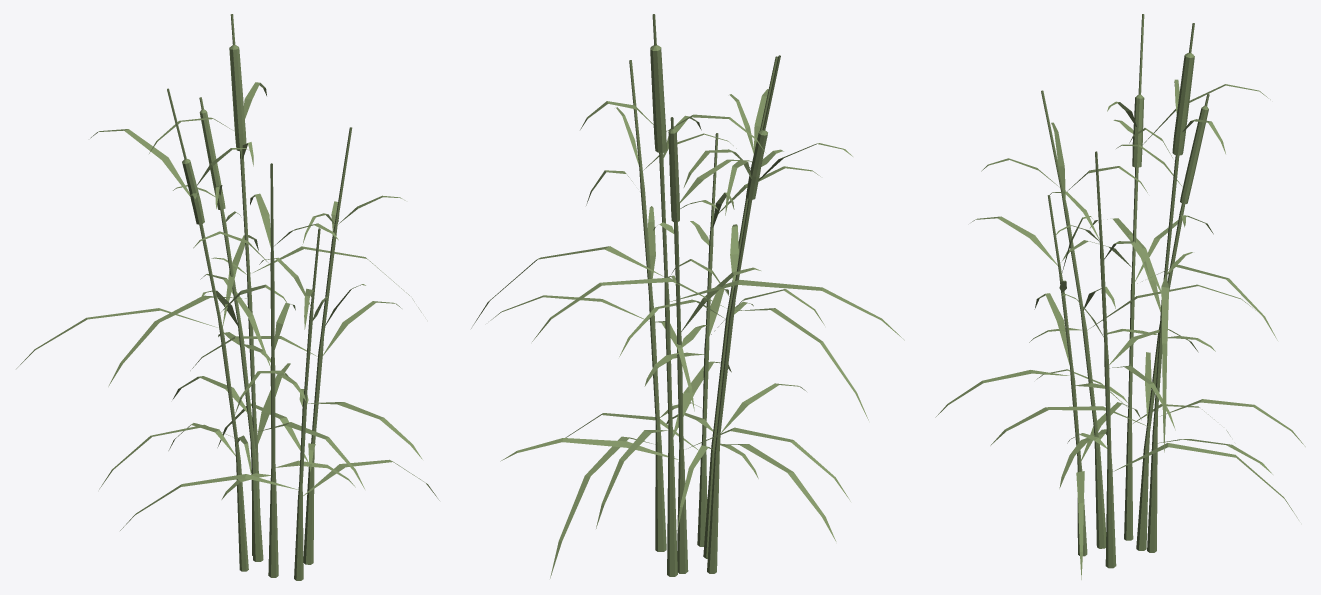
Rendered from schilf_neu.fbx.
3 views of the same model, side by side, from view 1: azimuth 30°, elevation 25°; view 2: azimuth 150°, elevation 25°; view 3: azimuth 270°, elevation 25° (orthographic). The views are drawn at different scales.
Parts seen in each view (by area): view 1: Schilf; view 2: Schilf; view 3: Schilf.
Part boxes in pixels (<box>): Schilf: <box>16,14,439,580</box>; Schilf: <box>471,14,904,578</box>; Schilf: <box>935,14,1305,579</box>.
Size of the model in its own units: 1.25 by 1.61 by 1.03.
